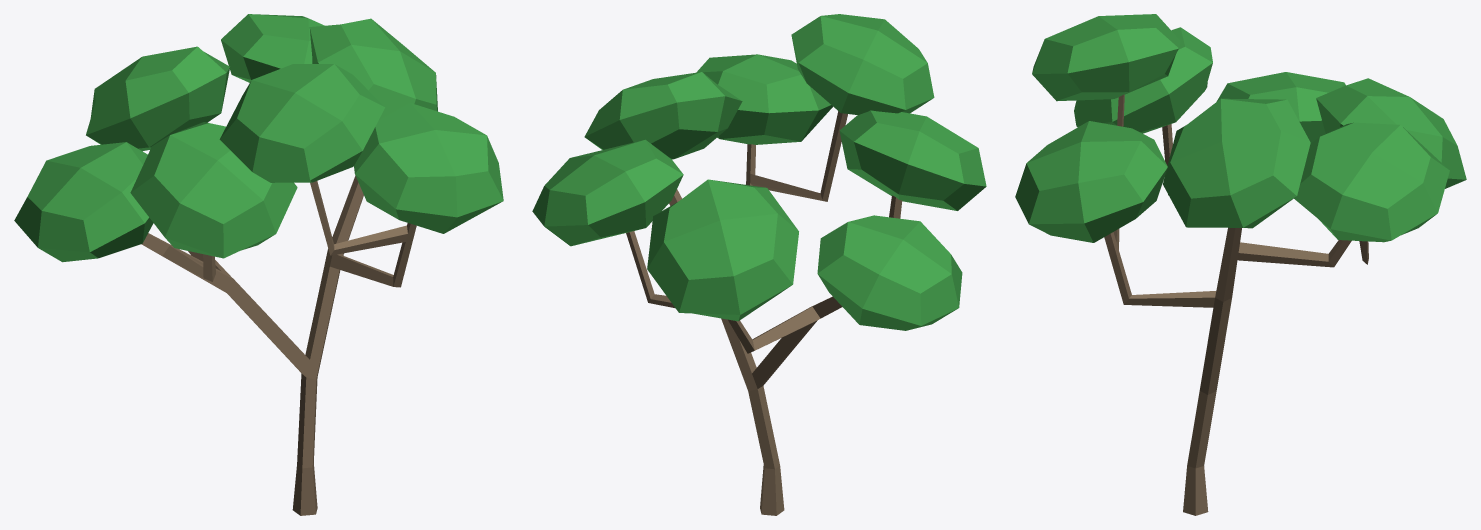
The model's file is tree_a_6.FBX.
The picture shows the model from 3 angles, left to right: view 1: azimuth 30°, elevation 25°; view 2: azimuth 150°, elevation 25°; view 3: azimuth 270°, elevation 25°; orthographic projection.
Parts seen in each view (by area): view 1: tree_a_6; view 2: tree_a_6; view 3: tree_a_6.
Part boxes in pixels (x1,y1,x2,y2): tree_a_6: (14, 14, 503, 515); tree_a_6: (532, 14, 986, 515); tree_a_6: (1015, 14, 1466, 515).
Size of the model in its own units: 6.55 by 7.91 by 6.81.
